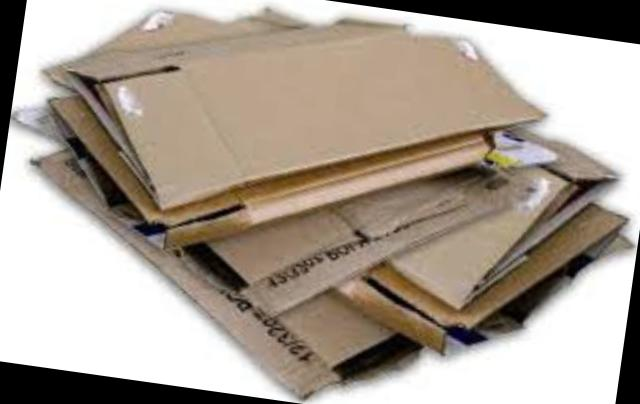cardboard paper: (9, 0, 638, 398)
